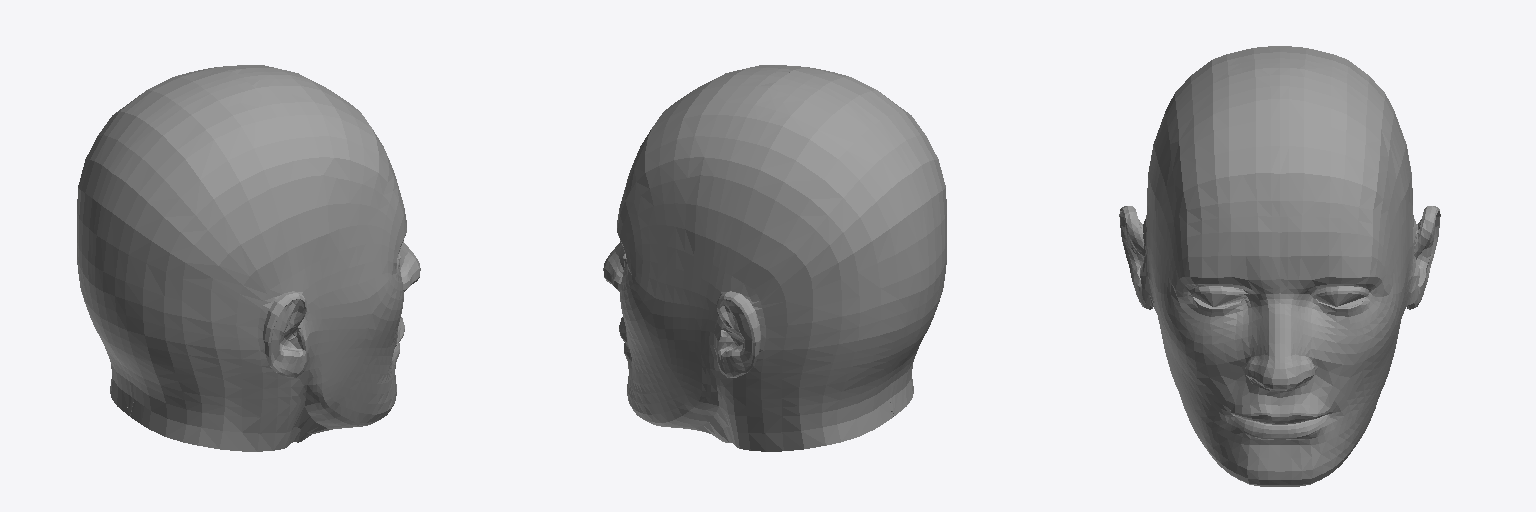
Rendered from head.obj.
3 views of the same model, side by side, from view 1: azimuth 30°, elevation 25°; view 2: azimuth 150°, elevation 25°; view 3: azimuth 270°, elevation 25° (orthographic).
Visible parts, largest first — view 1: object0; view 2: object0; view 3: object0.
Part boxes in pixels (bbox=[...]): object0: bbox=[77, 65, 420, 451]; object0: bbox=[603, 65, 946, 451]; object0: bbox=[1119, 46, 1440, 486].
Size of the model in its own units: 0.0312 by 0.0336 by 0.0269.